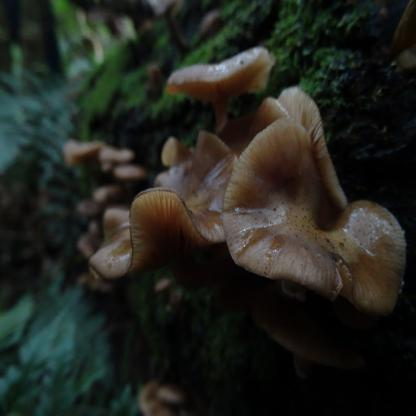Mushroom: (224, 79, 408, 320), (85, 128, 241, 288), (163, 50, 282, 138)
